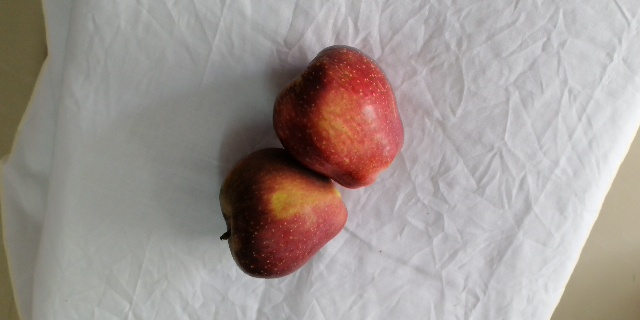apple_kashmir: (268, 45, 411, 191), (214, 157, 347, 282)
